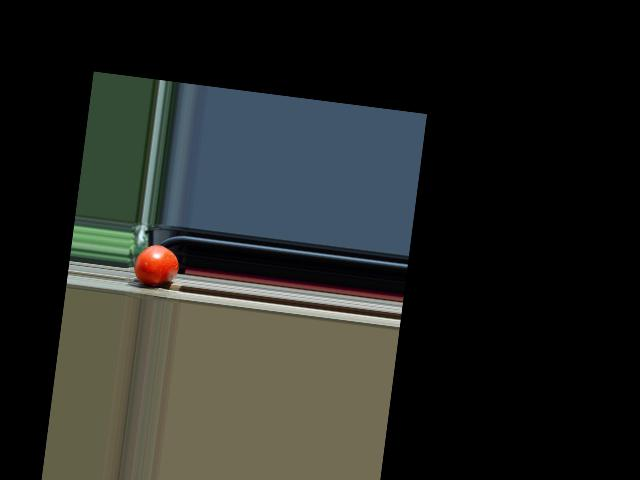tomato: (131, 242, 180, 287)
